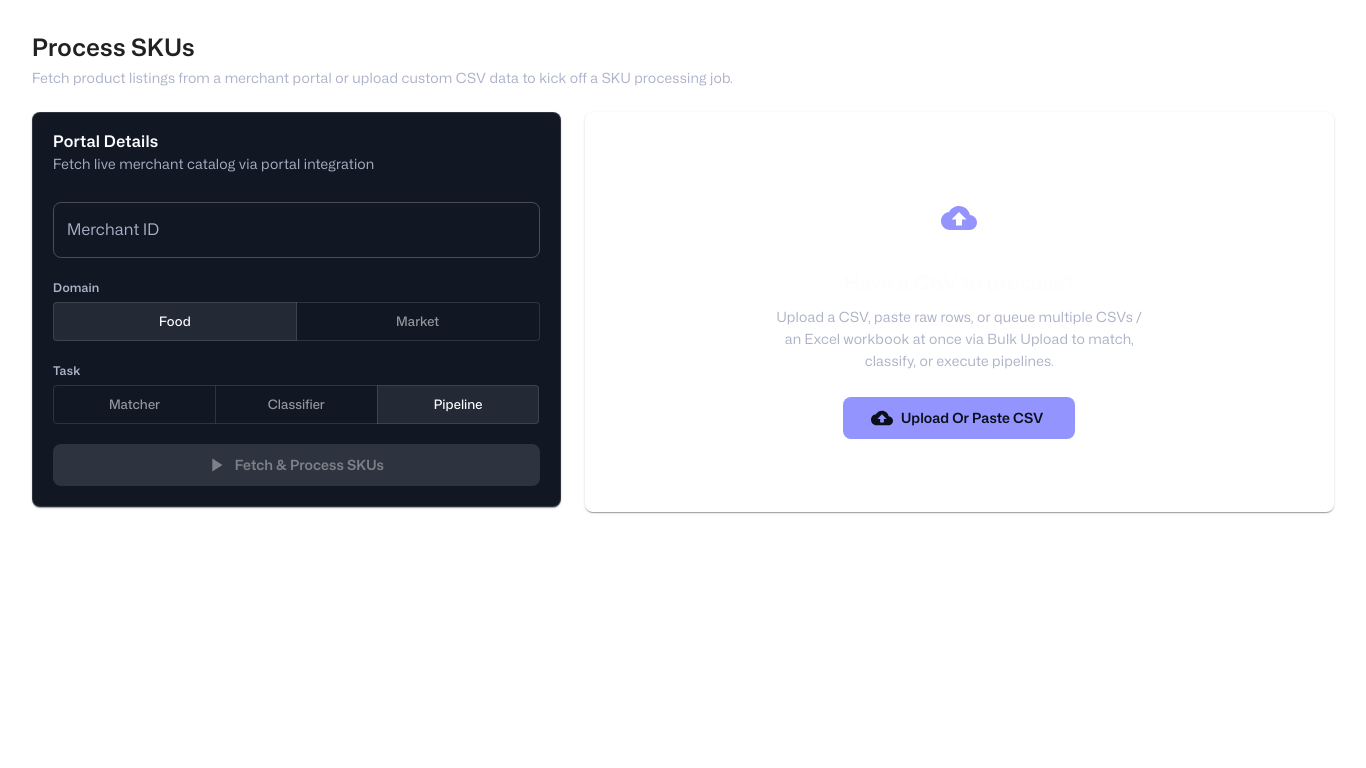
Scenario: Pages › ProcessSKUs › enables portal fetch with Merchant ID and opens token modal when needed
This screenshot has width=1366, height=768.
Expected: the heading "Process SKUs" is shown, [32,30,195,64]
Expected: the button "Fetch & Process SKUs" is disabled, [53,444,540,486]
Step 1. Type "8842" into the field labelled "Merchant ID" → (296, 230), box [53,202,540,258]
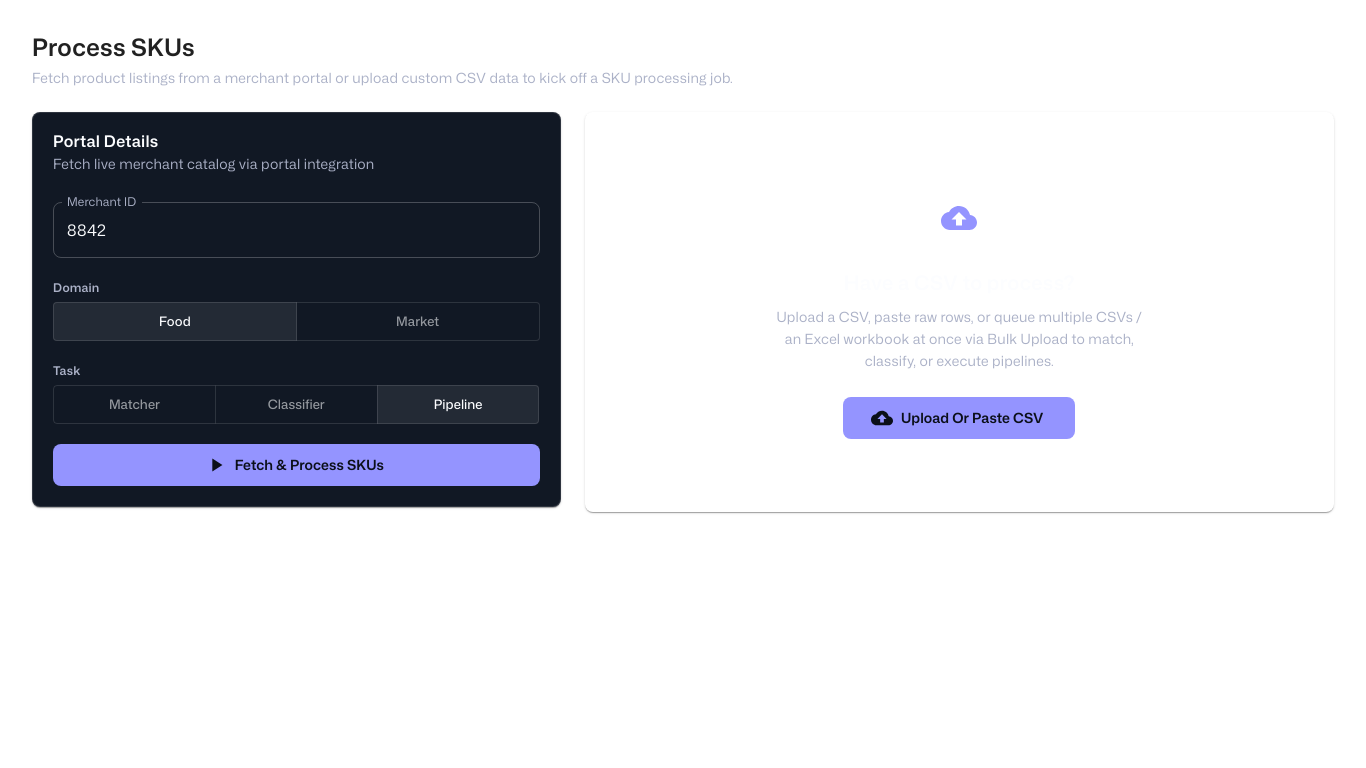
Now the button "Fetch & Process SKUs" is enabled
Step 2. Click the button "Fetch & Process SKUs" → (296, 464), box [53,444,540,486]
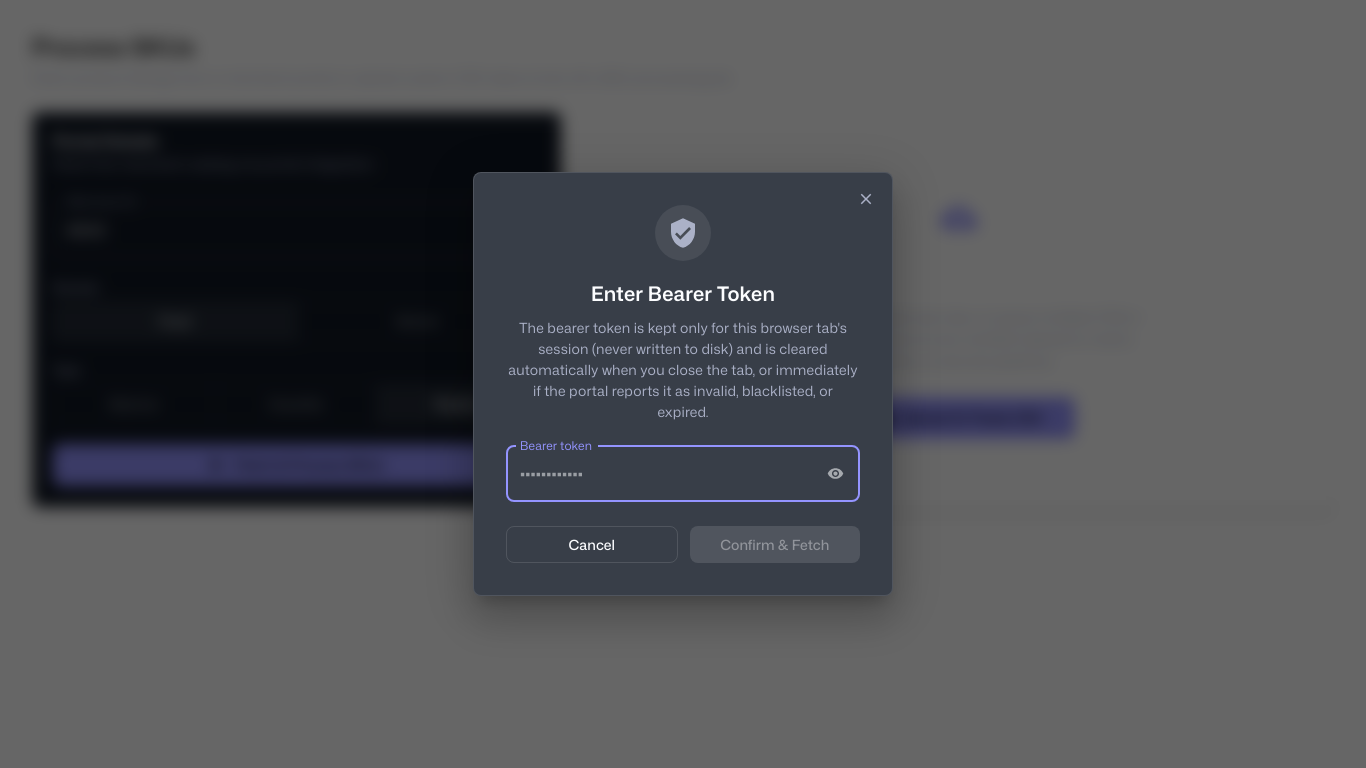
Now the heading "Enter Bearer Token" is shown, box [591,279,775,307]
